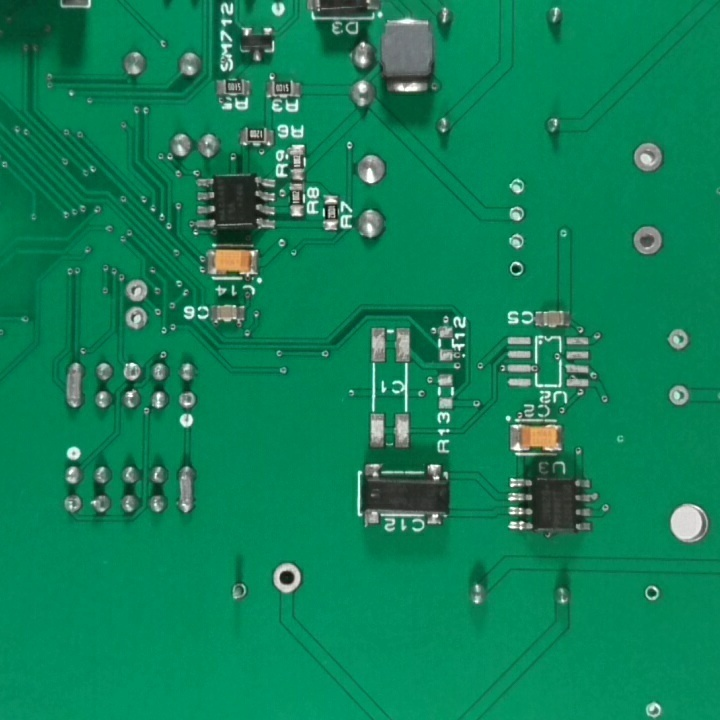F: (628, 223, 665, 260), (268, 560, 304, 598), (627, 140, 667, 174), (124, 304, 152, 334), (124, 275, 151, 304), (664, 327, 691, 354), (227, 579, 253, 606), (667, 381, 690, 410), (61, 492, 84, 518), (120, 359, 144, 383), (641, 696, 665, 720), (506, 175, 530, 197), (178, 389, 197, 415), (507, 229, 526, 254), (506, 260, 527, 280), (506, 205, 529, 223), (642, 583, 661, 603)
P: (60, 359, 87, 415), (175, 462, 199, 521)
